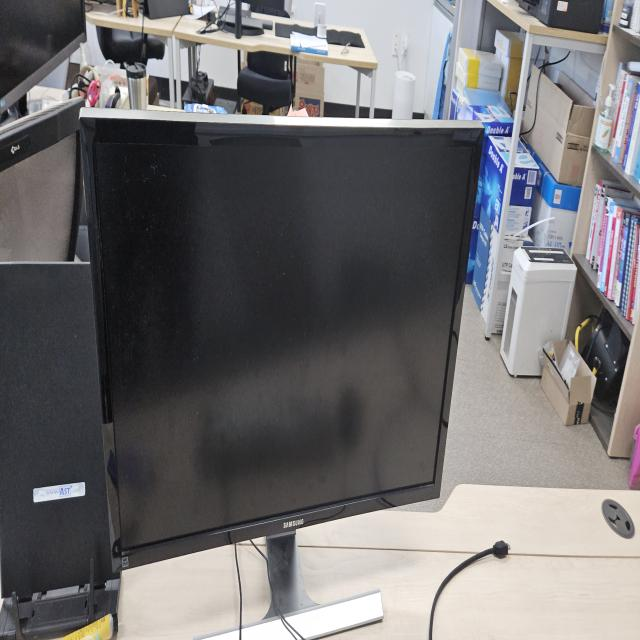Monitor: (77, 101, 486, 630)
